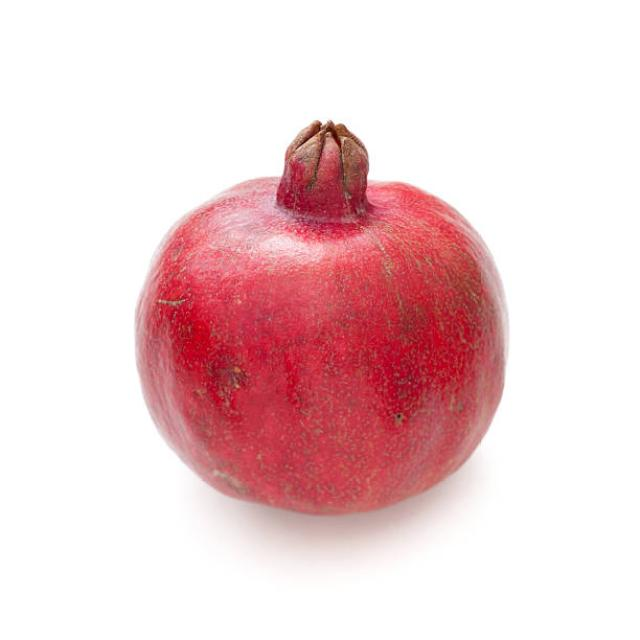Ripe: (129, 115, 512, 518)
